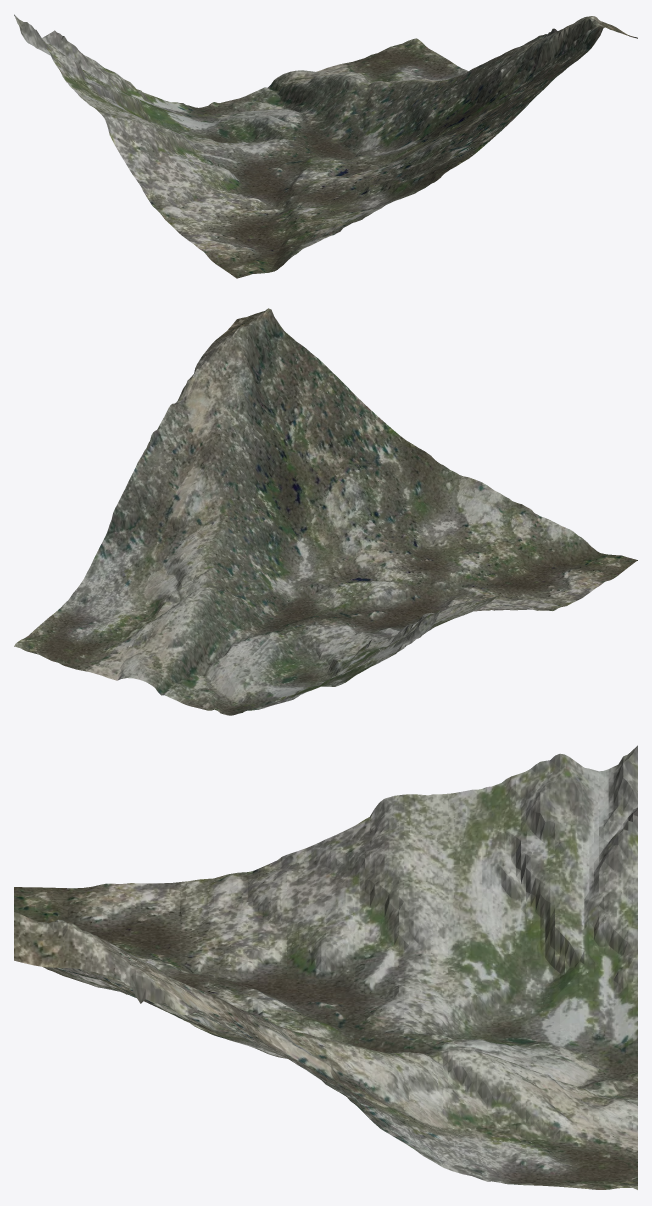
3 renders of one model, top to bottom at view 1: azimuth 30°, elevation 25°; view 2: azimuth 150°, elevation 25°; view 3: azimuth 270°, elevation 25°, orthographic. The views are drawn at different scales.
Size of the model in its own units: 1000 by 478 by 963.
Materials: 1 (1 with a texture image).
